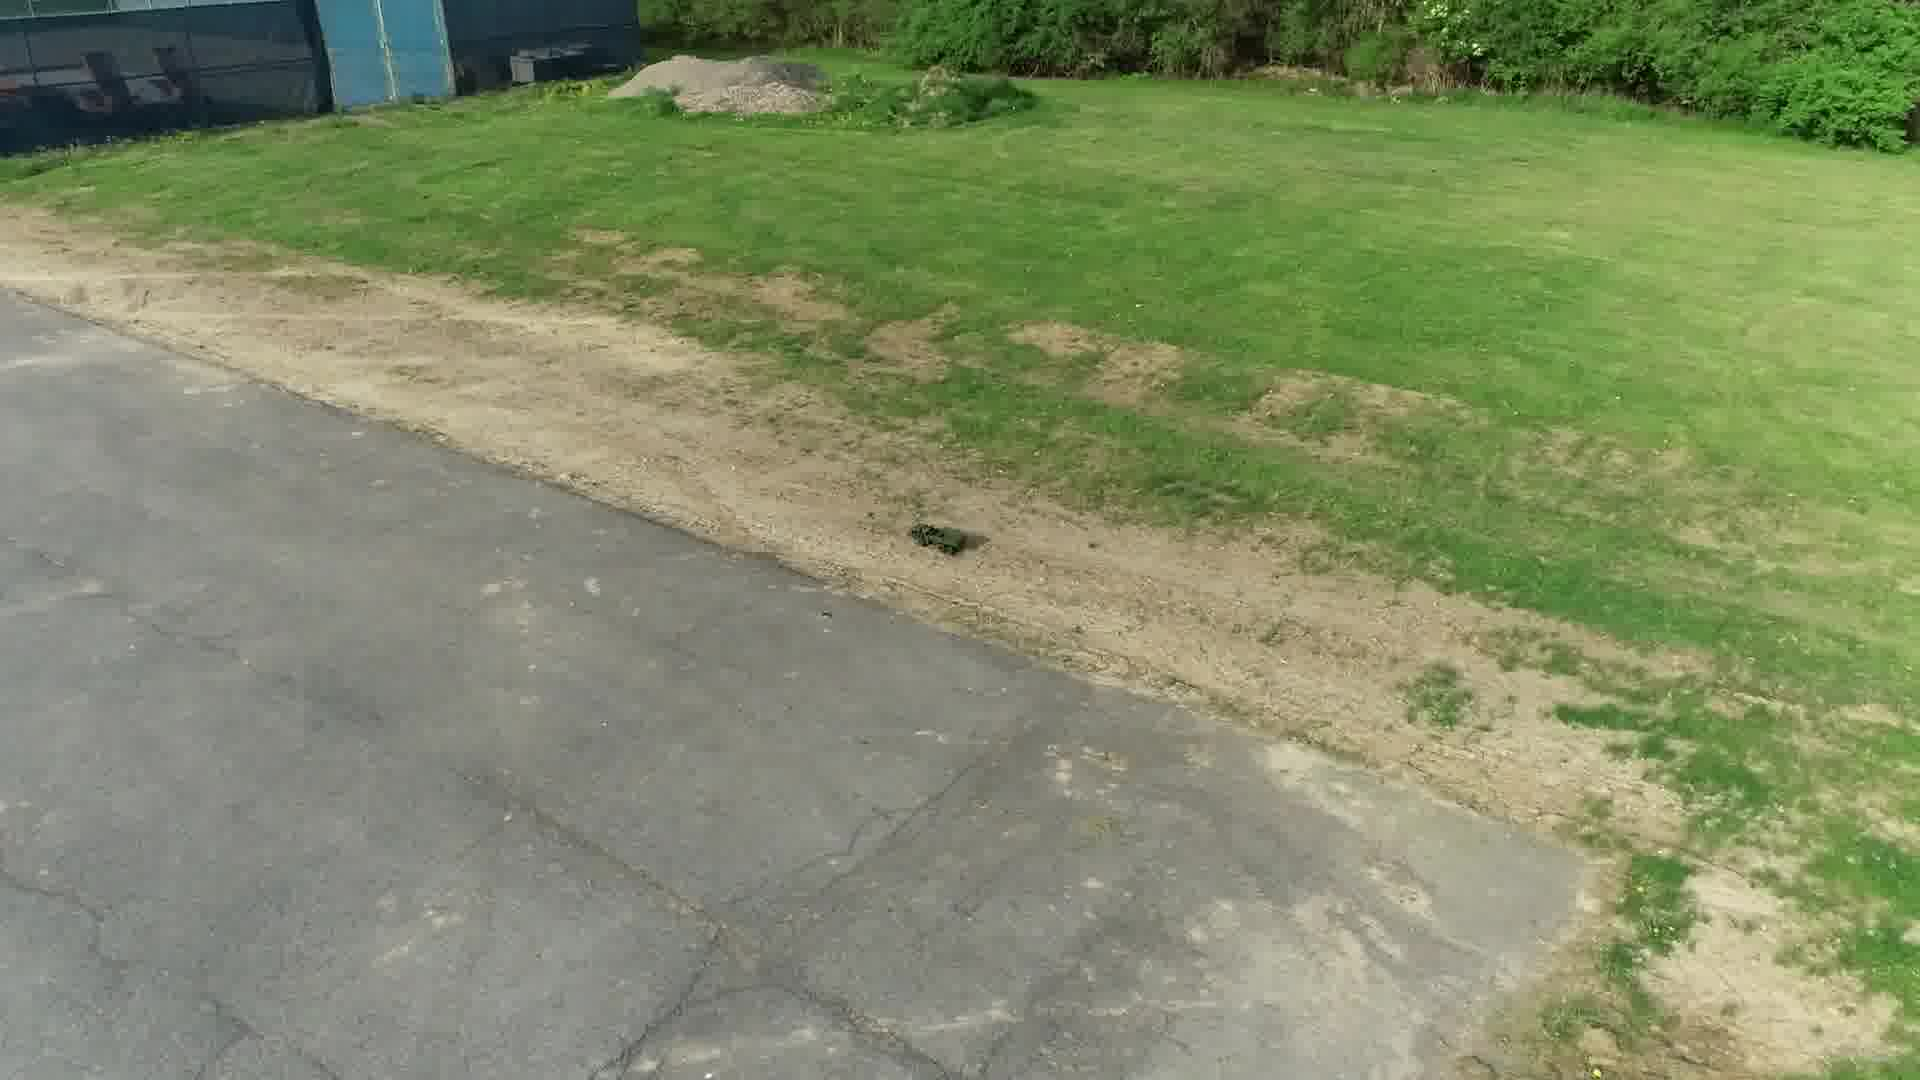transporter9: (907, 522, 969, 556)
